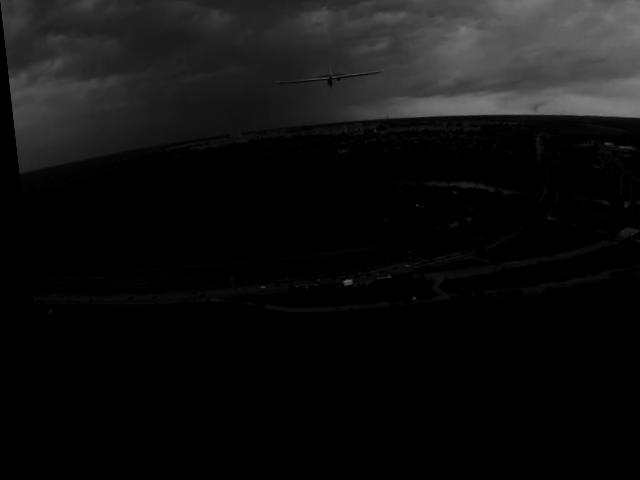hedef: (270, 65, 382, 103)
